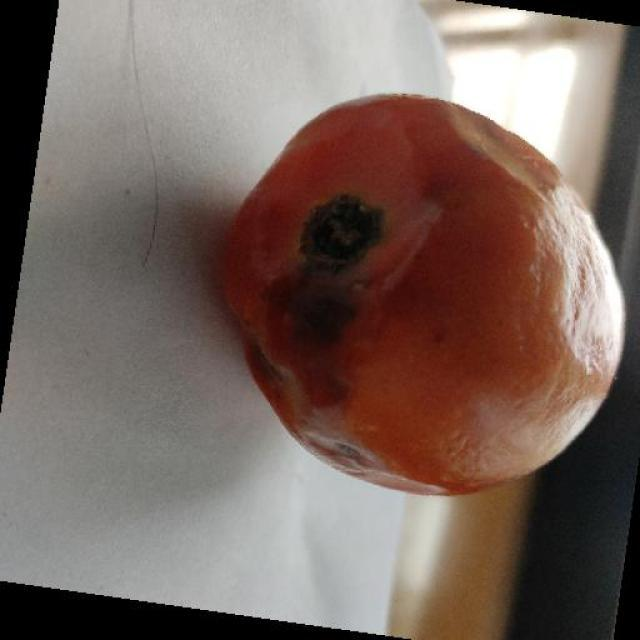Rotten Tomato: (184, 66, 628, 526)
